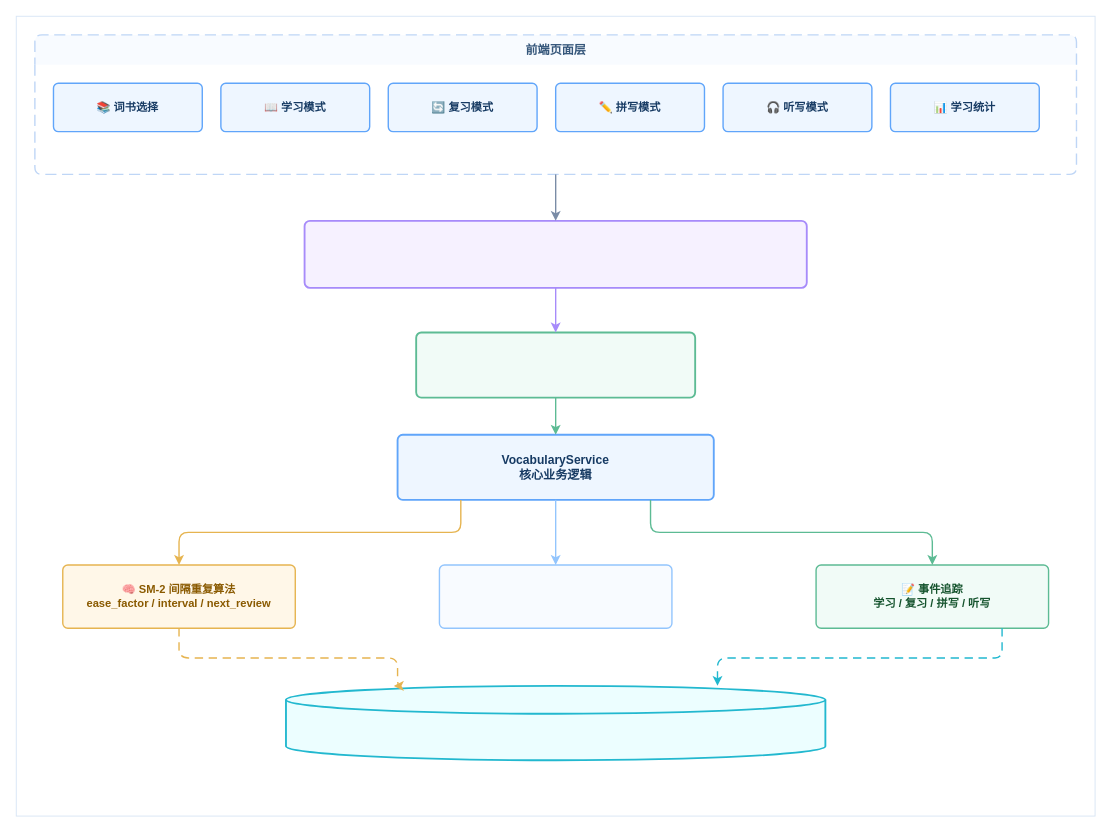
The diagram is 1111 pixels wide and 832 high, and some of its shapes have lost their labels. Here are the shapes that lost their labels. From the top down, the centre of each, then its label:
pixel 555 253: Zustand 全局状态管理 单词队列 / 会话状态 / 每日限额
pixel 555 364: REST API 层 14 个接口
pixel 555 596: 📅 每日DIY限额 学习新词 + 复习旧词
pixel 555 722: 💾 SQLite 本地数据库 Vocabulary + Event 表
